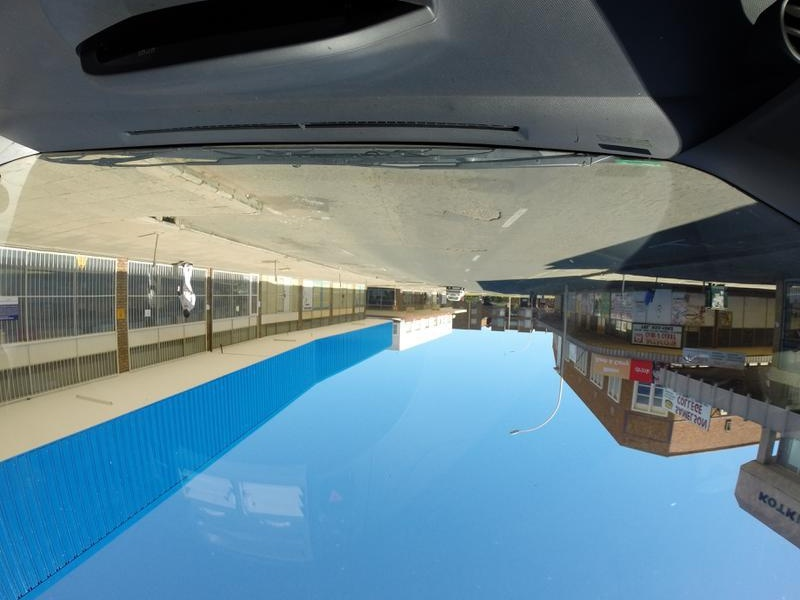pothole: (437, 199, 506, 228), (443, 240, 493, 257)
